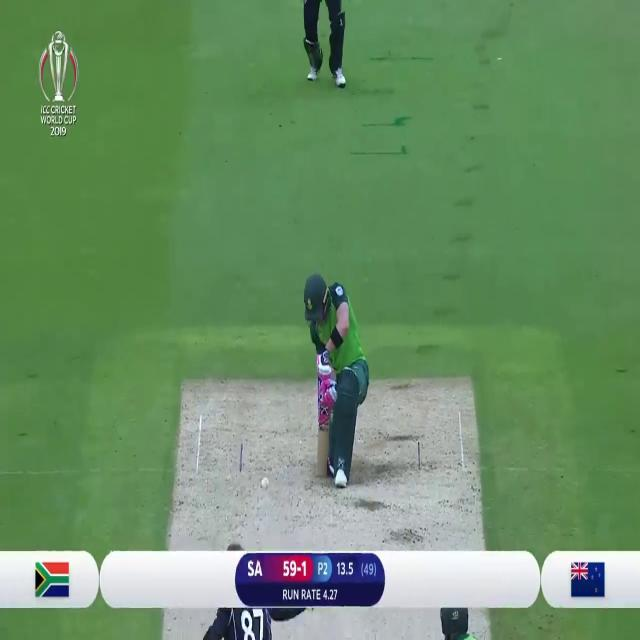ball: (256, 469, 274, 497)
